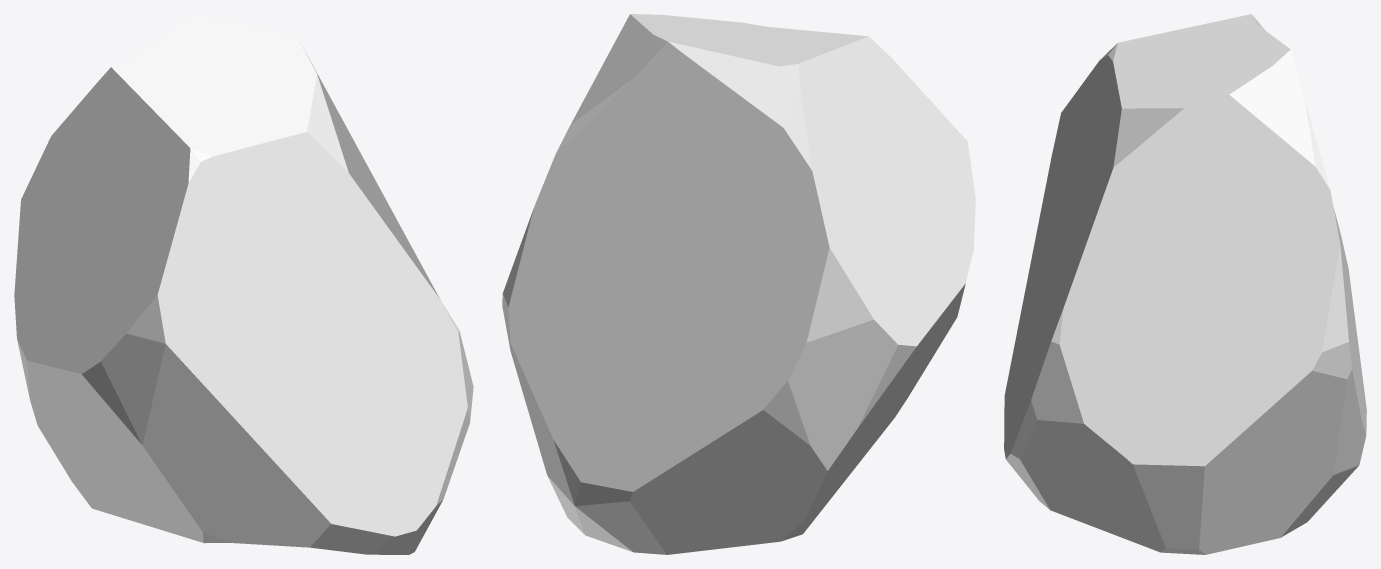
Rendered from medic_salt_2.fbx.
3 views of the same model, side by side, from view 1: azimuth 30°, elevation 25°; view 2: azimuth 150°, elevation 25°; view 3: azimuth 270°, elevation 25° (orthographic). The views are drawn at different scales.
Visible parts, largest first — view 1: medic_salt_2; view 2: medic_salt_2; view 3: medic_salt_2.
Boxes of the visible parts, x1=… form: medic_salt_2: x1=14, y1=14, x2=473, y2=554; medic_salt_2: x1=502, y1=14, x2=975, y2=554; medic_salt_2: x1=1004, y1=14, x2=1366, y2=554.
Size of the model in its own units: 183 by 225 by 167.
